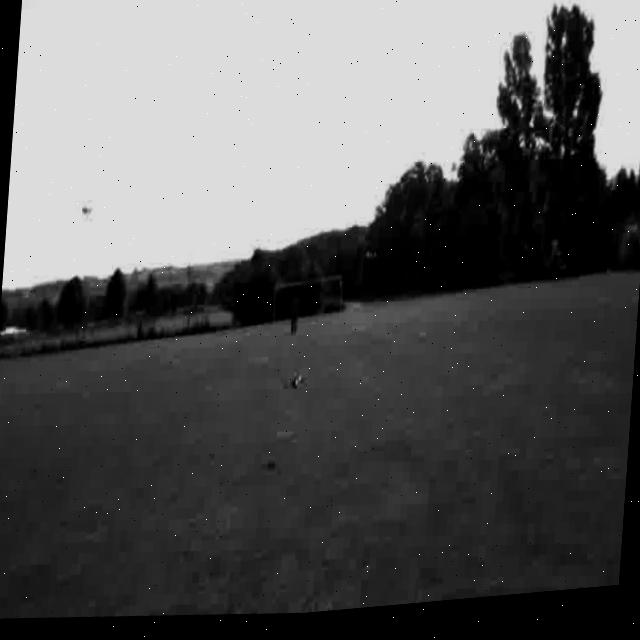drone: (284, 369, 306, 399)
